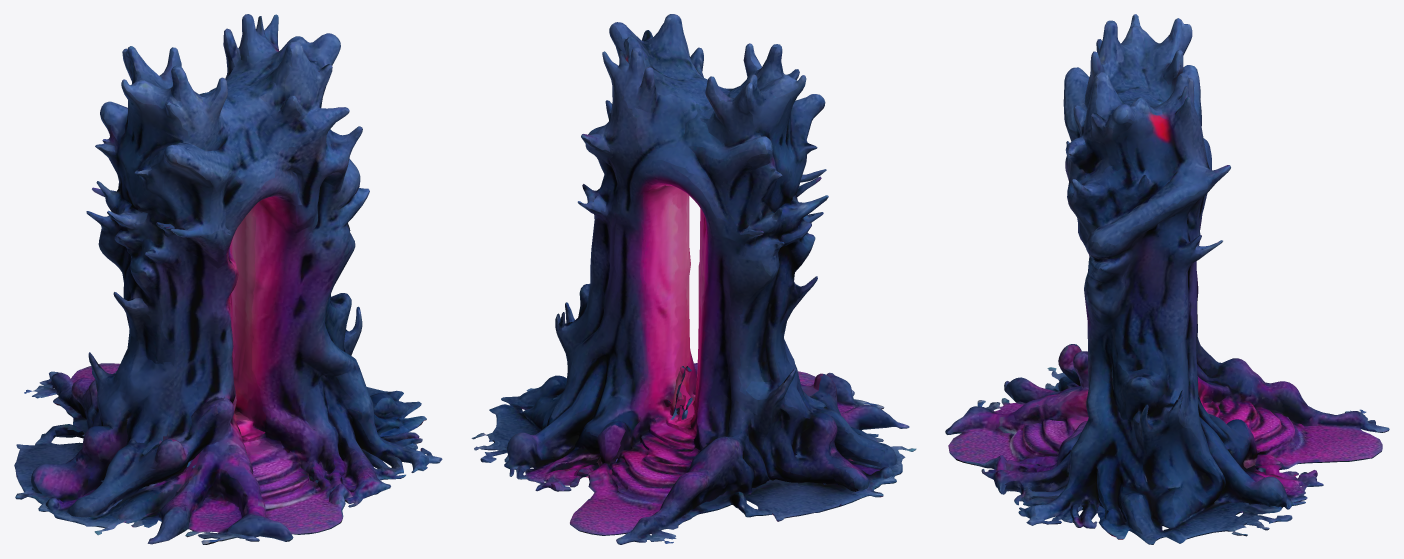
Rendered from root-northeast-generated-2026-04-19T17-10-26-920Z.medium.glb.
The picture shows the model from 3 angles, left to right: view 1: azimuth 30°, elevation 25°; view 2: azimuth 150°, elevation 25°; view 3: azimuth 270°, elevation 25°; orthographic projection. The views are drawn at different scales.
Parts seen in each view (by area): view 1: temp_mesh.ply; view 2: temp_mesh.ply; view 3: temp_mesh.ply.
Boxes of the visible parts, bbox=[...] form: temp_mesh.ply: bbox=[14, 14, 442, 544]; temp_mesh.ply: bbox=[471, 14, 916, 544]; temp_mesh.ply: bbox=[945, 14, 1389, 544].
Size of the model in its own units: 1.97 by 1.97 by 1.97.
1 material, 1 textured.
